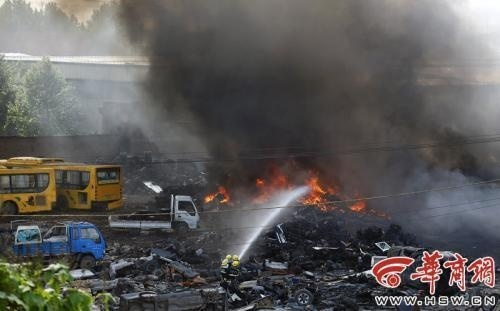fire: (255, 169, 369, 210), (205, 186, 231, 203)
